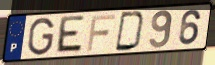6: (178, 8, 202, 47)
9: (148, 9, 173, 50)
D: (113, 11, 147, 53)
E: (54, 14, 87, 54)
F: (85, 13, 116, 52)
G: (27, 16, 56, 57)
